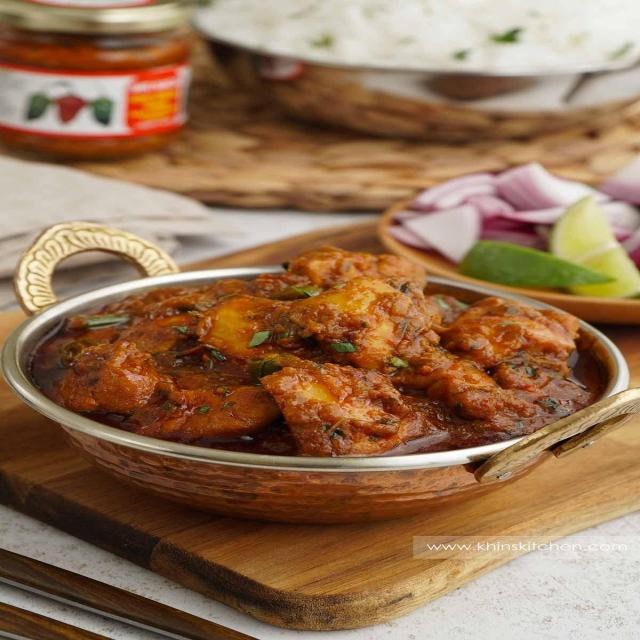chicken: (18, 264, 640, 484)
rice: (221, 4, 640, 73)
